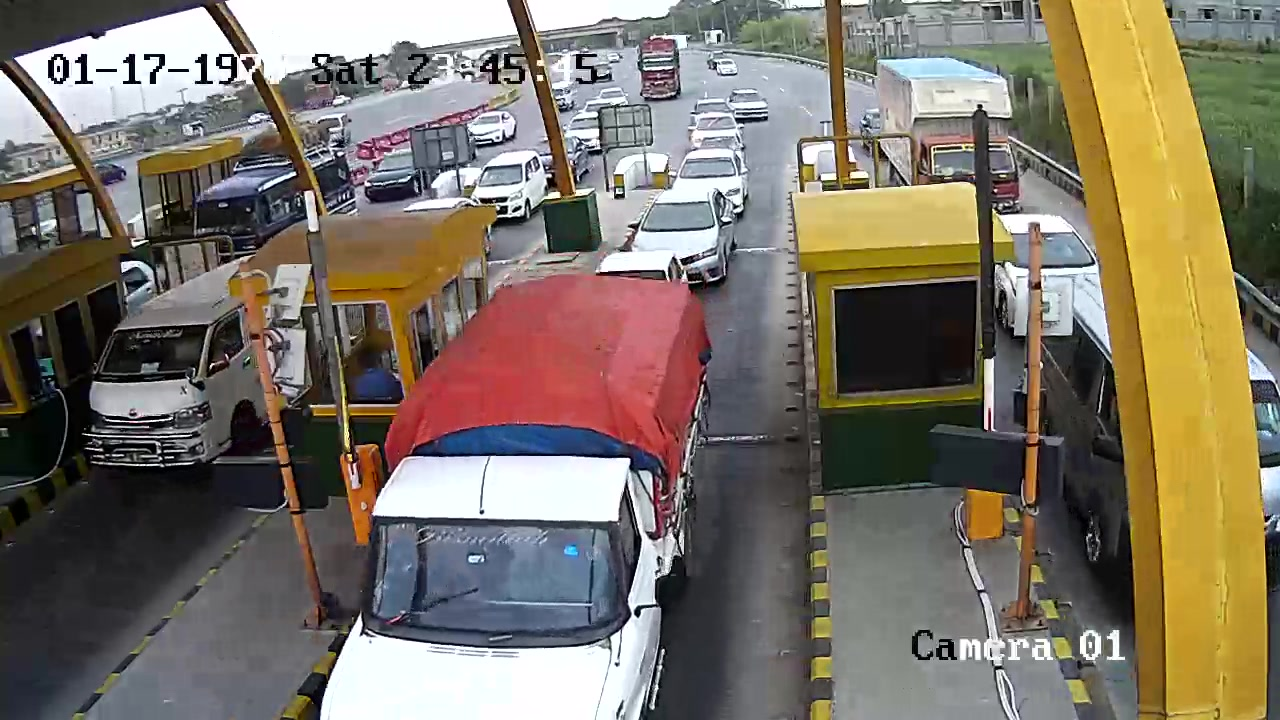F1: (628, 182, 743, 287)
